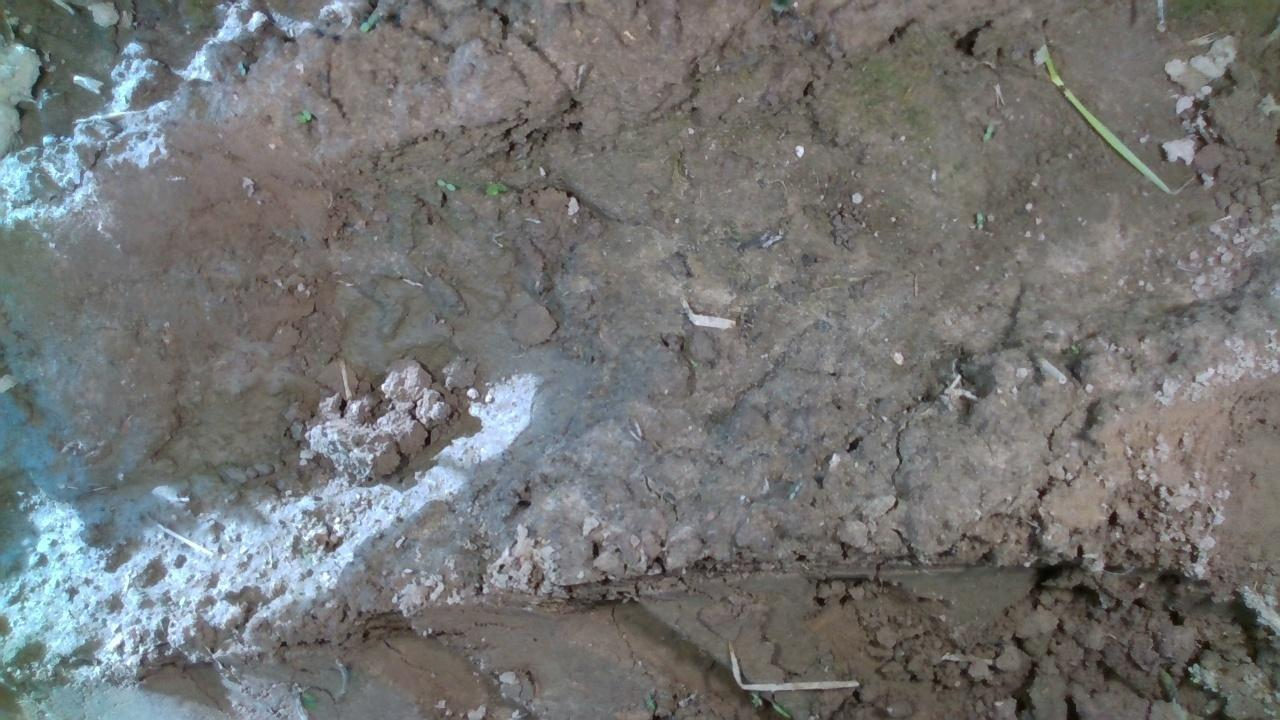weed: (432, 175, 454, 191), (979, 123, 994, 142), (973, 210, 984, 231), (235, 58, 247, 76)
